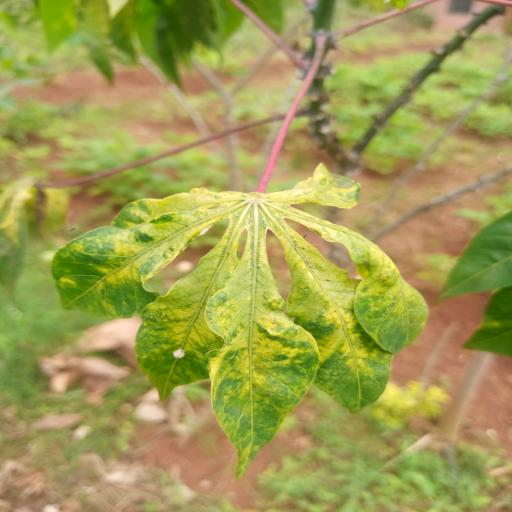Cassava_Mosaic: (52, 169, 446, 483)
